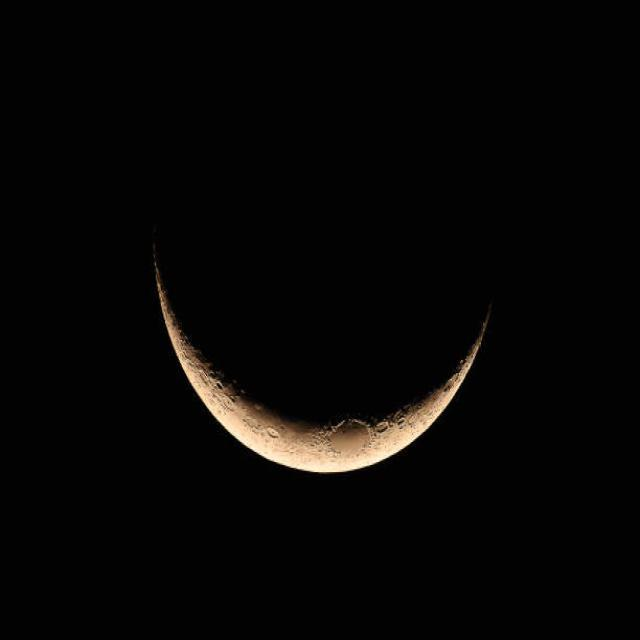moon: (140, 63, 500, 472)
